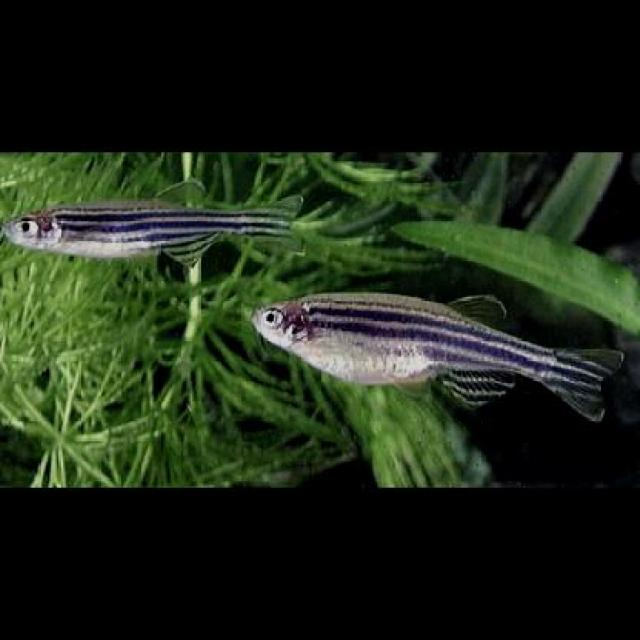ZebraFish: (250, 288, 624, 426), (0, 175, 303, 263)
